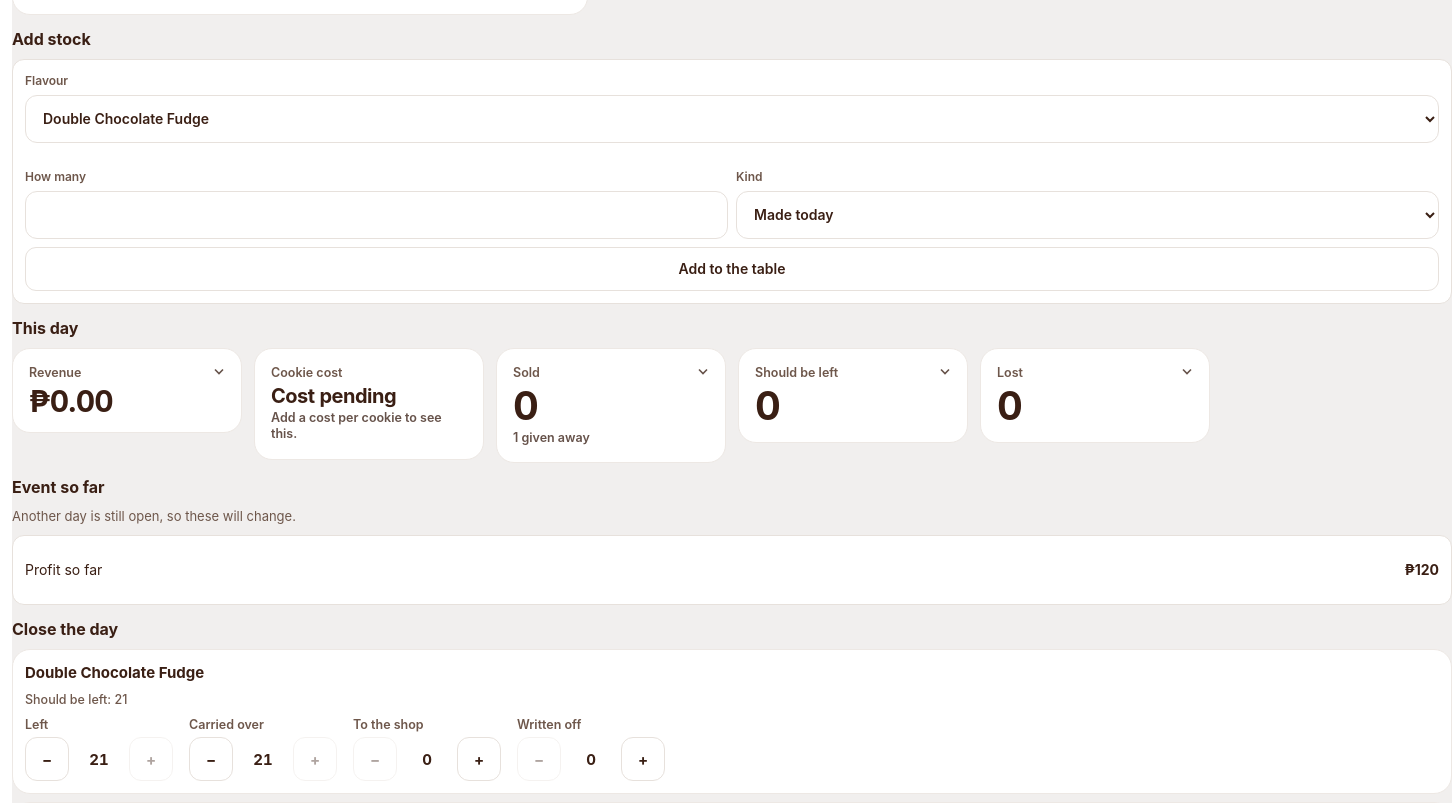
the day review › adds up the sold, left and lost tiles from the flavours, and opens them by flavour
(page scrolled)
Expected: the button named "Should be left 21" is shown, [739,349,967,442]
Expected: the button named "Lost 1" is shown, [981,349,1209,442]
Click the button named "Sold 15 1 given away" at [611, 406], box [497,349,725,462]
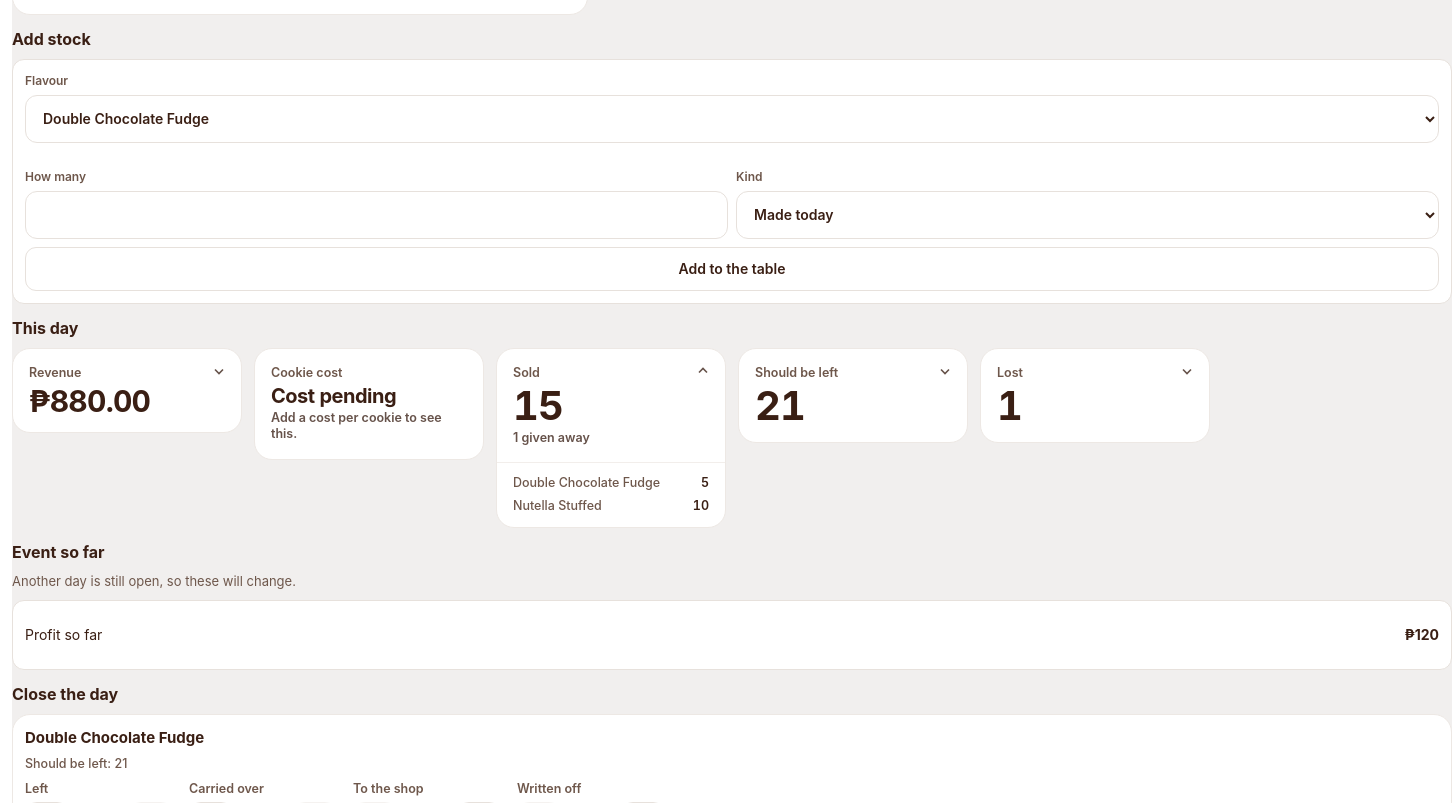
Expected: the text "10" is shown, [693,498,709,515]
